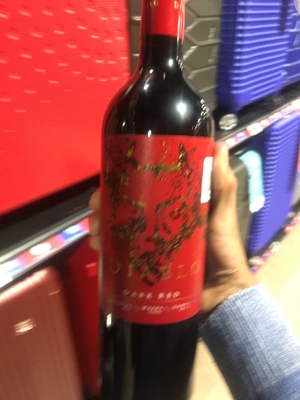diablo dark red: (93, 11, 234, 400)
